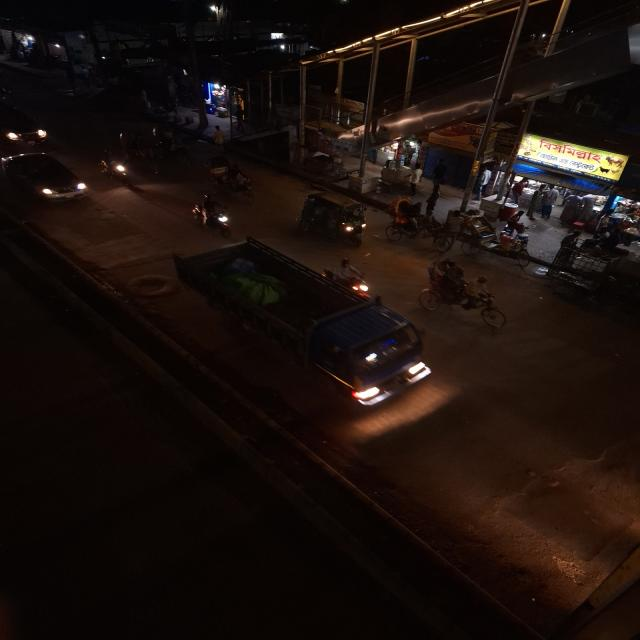car: (0, 148, 91, 205), (0, 98, 50, 146)
cng: (296, 190, 374, 246)
motorcycle: (187, 191, 236, 238), (95, 147, 132, 181)
rickshaw: (417, 257, 510, 331), (202, 154, 260, 200), (381, 197, 436, 244)
truck: (177, 232, 445, 410)
